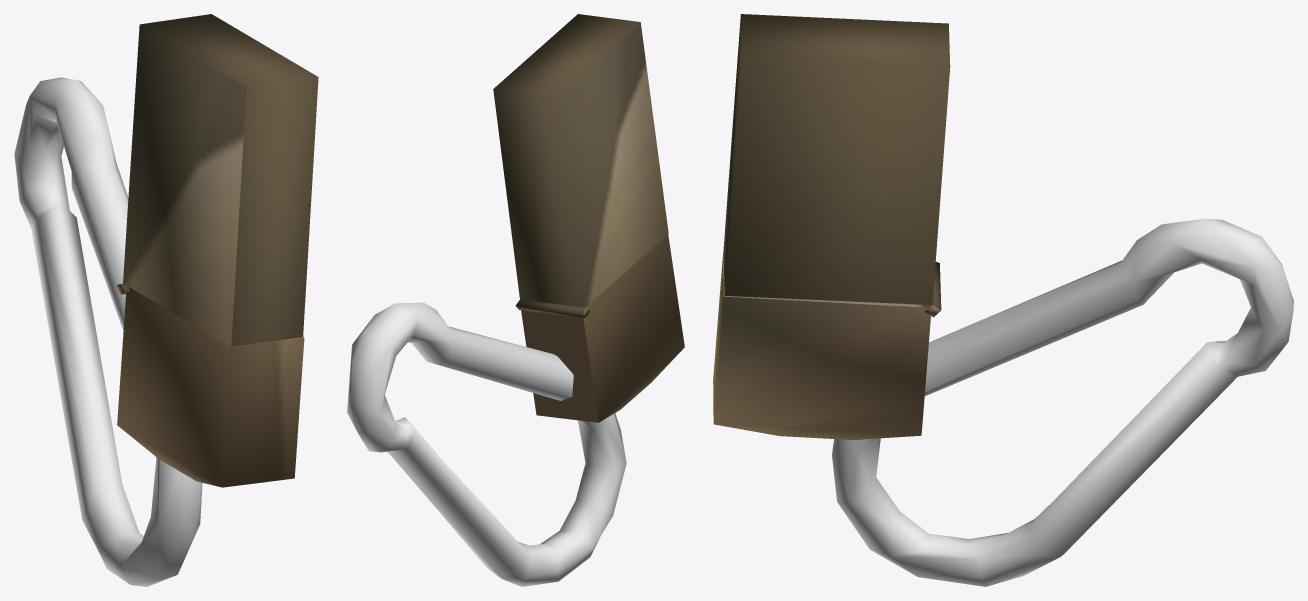
File: AuthenticLighter_AZ.fbx
3 views of the same model, side by side, from view 1: azimuth 30°, elevation 25°; view 2: azimuth 150°, elevation 25°; view 3: azimuth 270°, elevation 25° (orthographic). The views are drawn at different scales.
Visible parts, largest first — view 1: Carabiner-Zippo; view 2: Carabiner-Zippo; view 3: Carabiner-Zippo.
Part boxes in pixels (left/top/right/bottom): Carabiner-Zippo: left=14, top=14, right=318, bottom=586; Carabiner-Zippo: left=347, top=14, right=684, bottom=586; Carabiner-Zippo: left=713, top=14, right=1293, bottom=586.
Size of the model in its own units: 0.0279 by 0.1232 by 0.1129.
